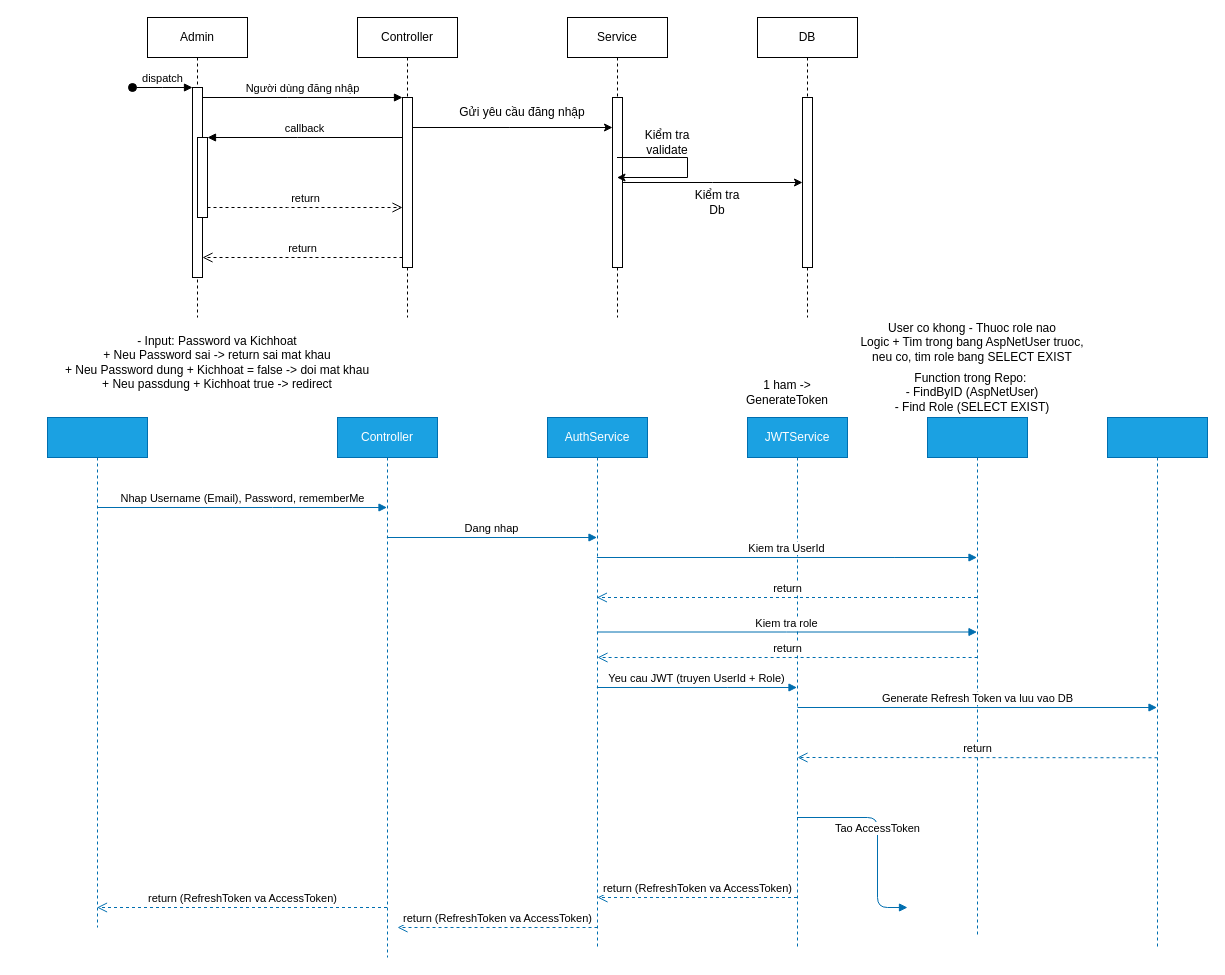
Image size: 1225x975. Some labels were removed from this diagram. Here are the shapes that lost their labels. From the top down, the box of each, then its label:
(46, 416, 148, 928): Client
(926, 416, 1028, 938): AuthRepo
(1106, 416, 1208, 948): JWT Repo
